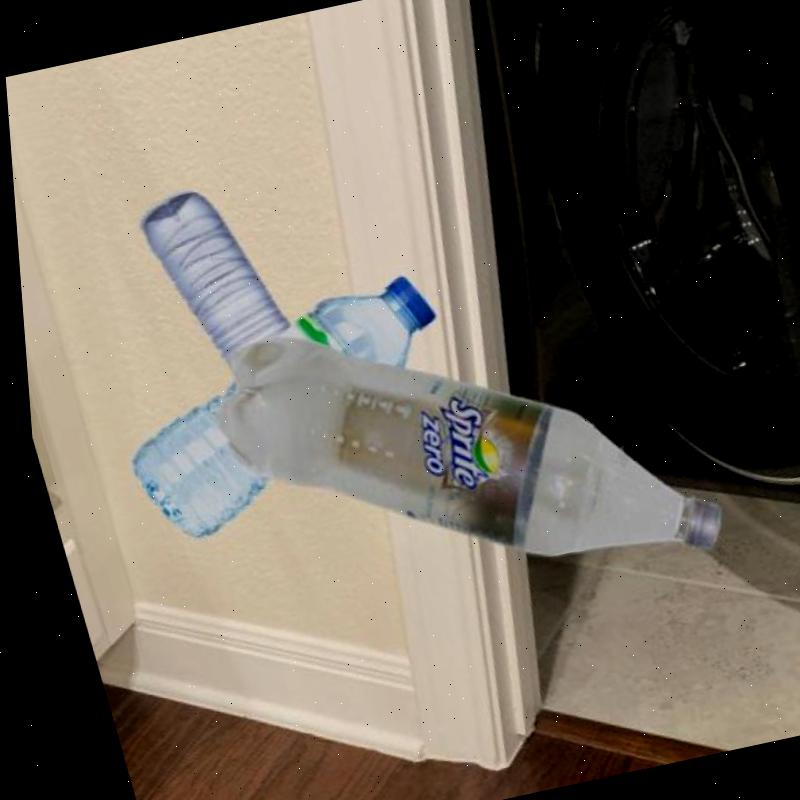botella: (189, 256, 729, 637), (84, 270, 478, 548), (127, 182, 300, 392)
